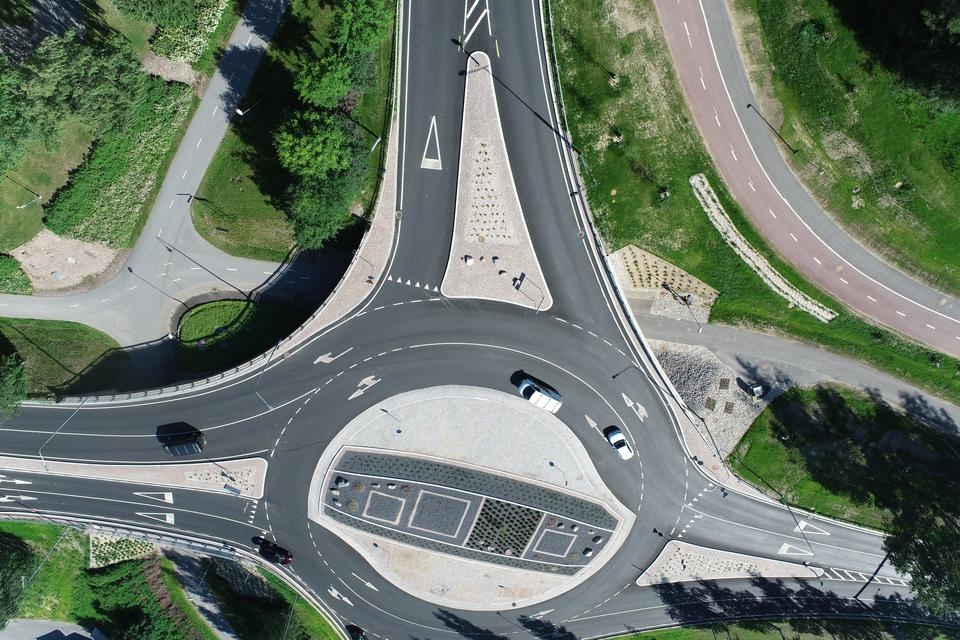roundabout: (208, 145, 738, 640)
